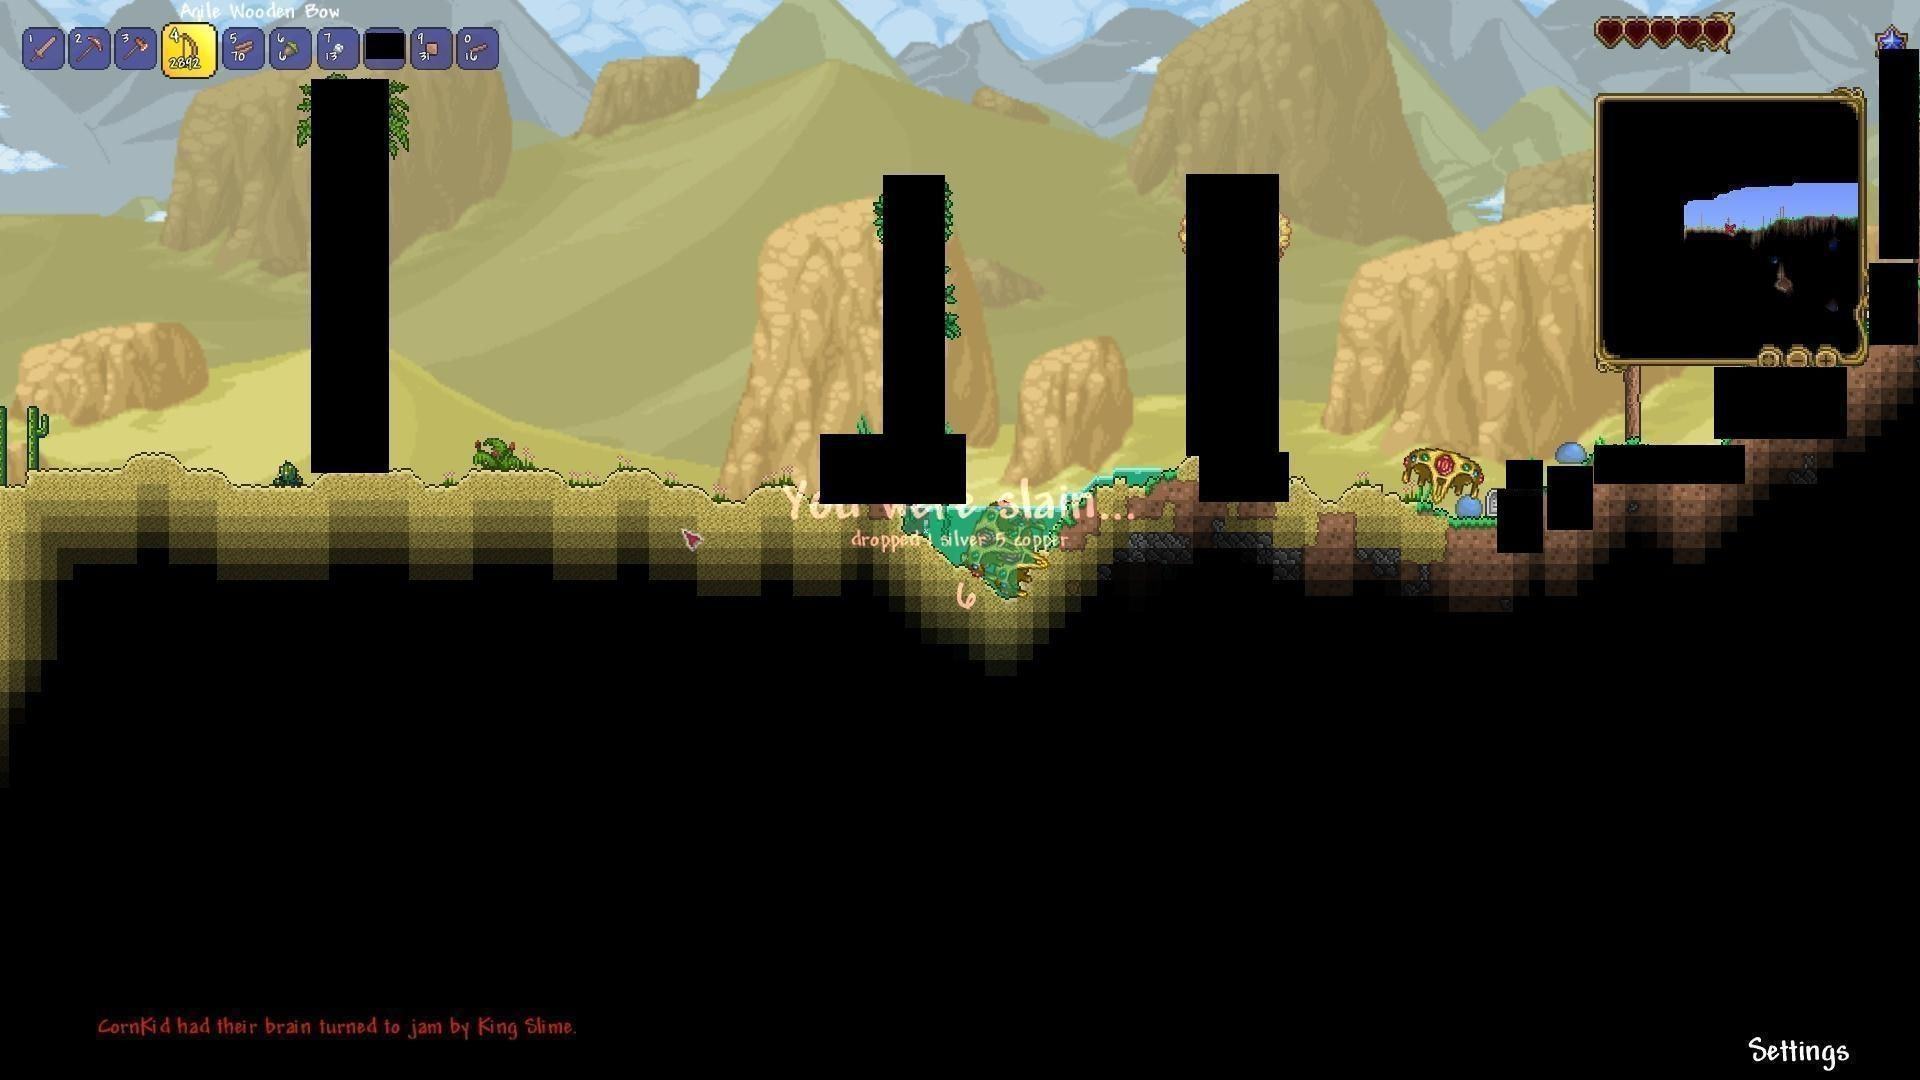dirt: (1447, 520, 1505, 582)
slime: (1449, 493, 1486, 521), (1553, 438, 1589, 465)
wood: (228, 33, 260, 63)
